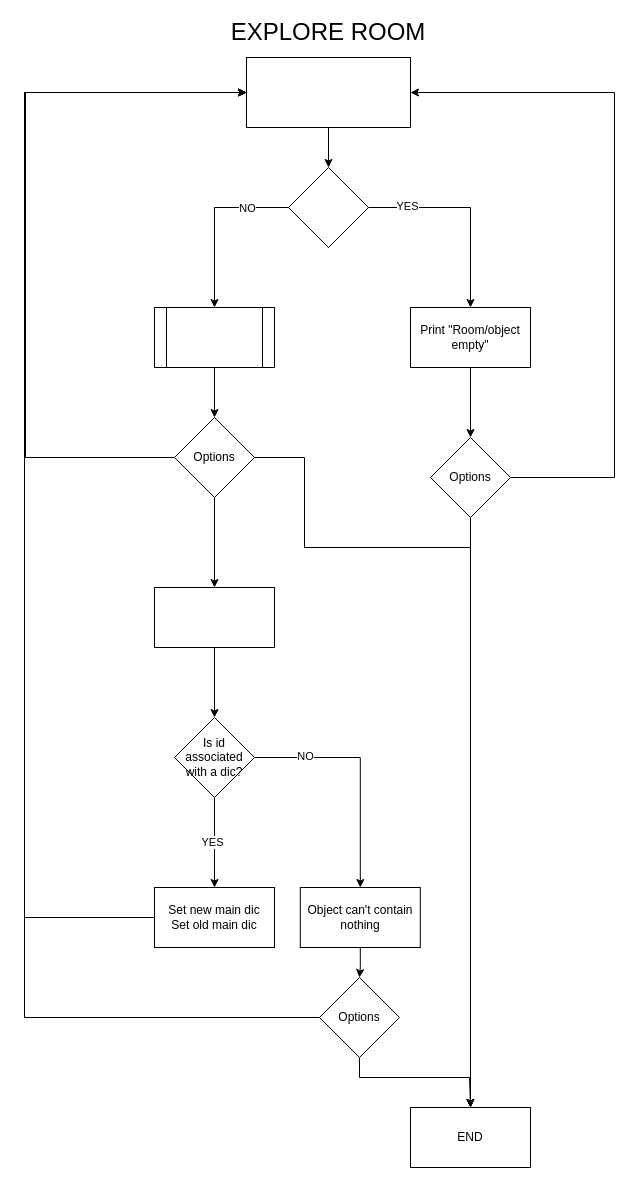
This 640x1185 diagram has some shape labels left out. The centre of each missing label's shape, as x and y in pixels:
Ask for obj/room id: point 214,617
Is current level dic empty?: point 328,207
Print main dic: point 214,337
START Input data: - current level dictionary - IdDic - upper level dictionary: point 328,92
